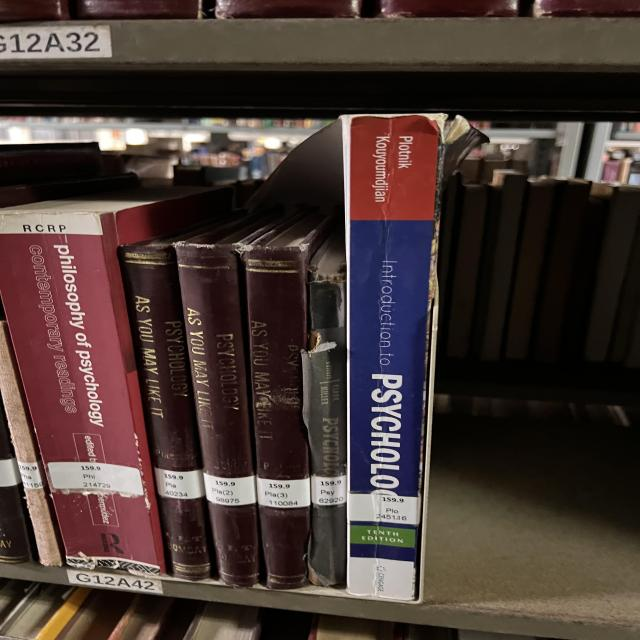Book: (0, 188, 232, 575), (345, 115, 442, 600), (175, 211, 277, 586), (118, 221, 213, 580), (242, 212, 332, 589), (302, 230, 347, 586)
Label: (203, 472, 257, 506), (372, 489, 420, 524), (257, 478, 310, 509), (155, 468, 205, 499), (312, 475, 347, 505)
